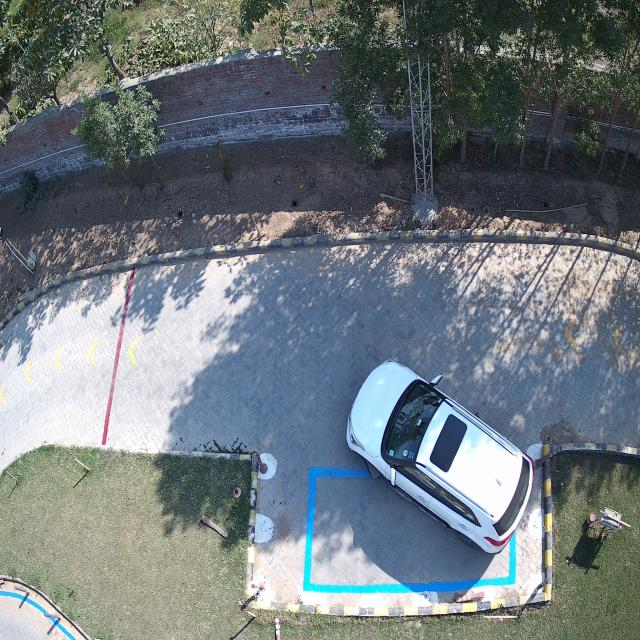car: (346, 362, 534, 554)
